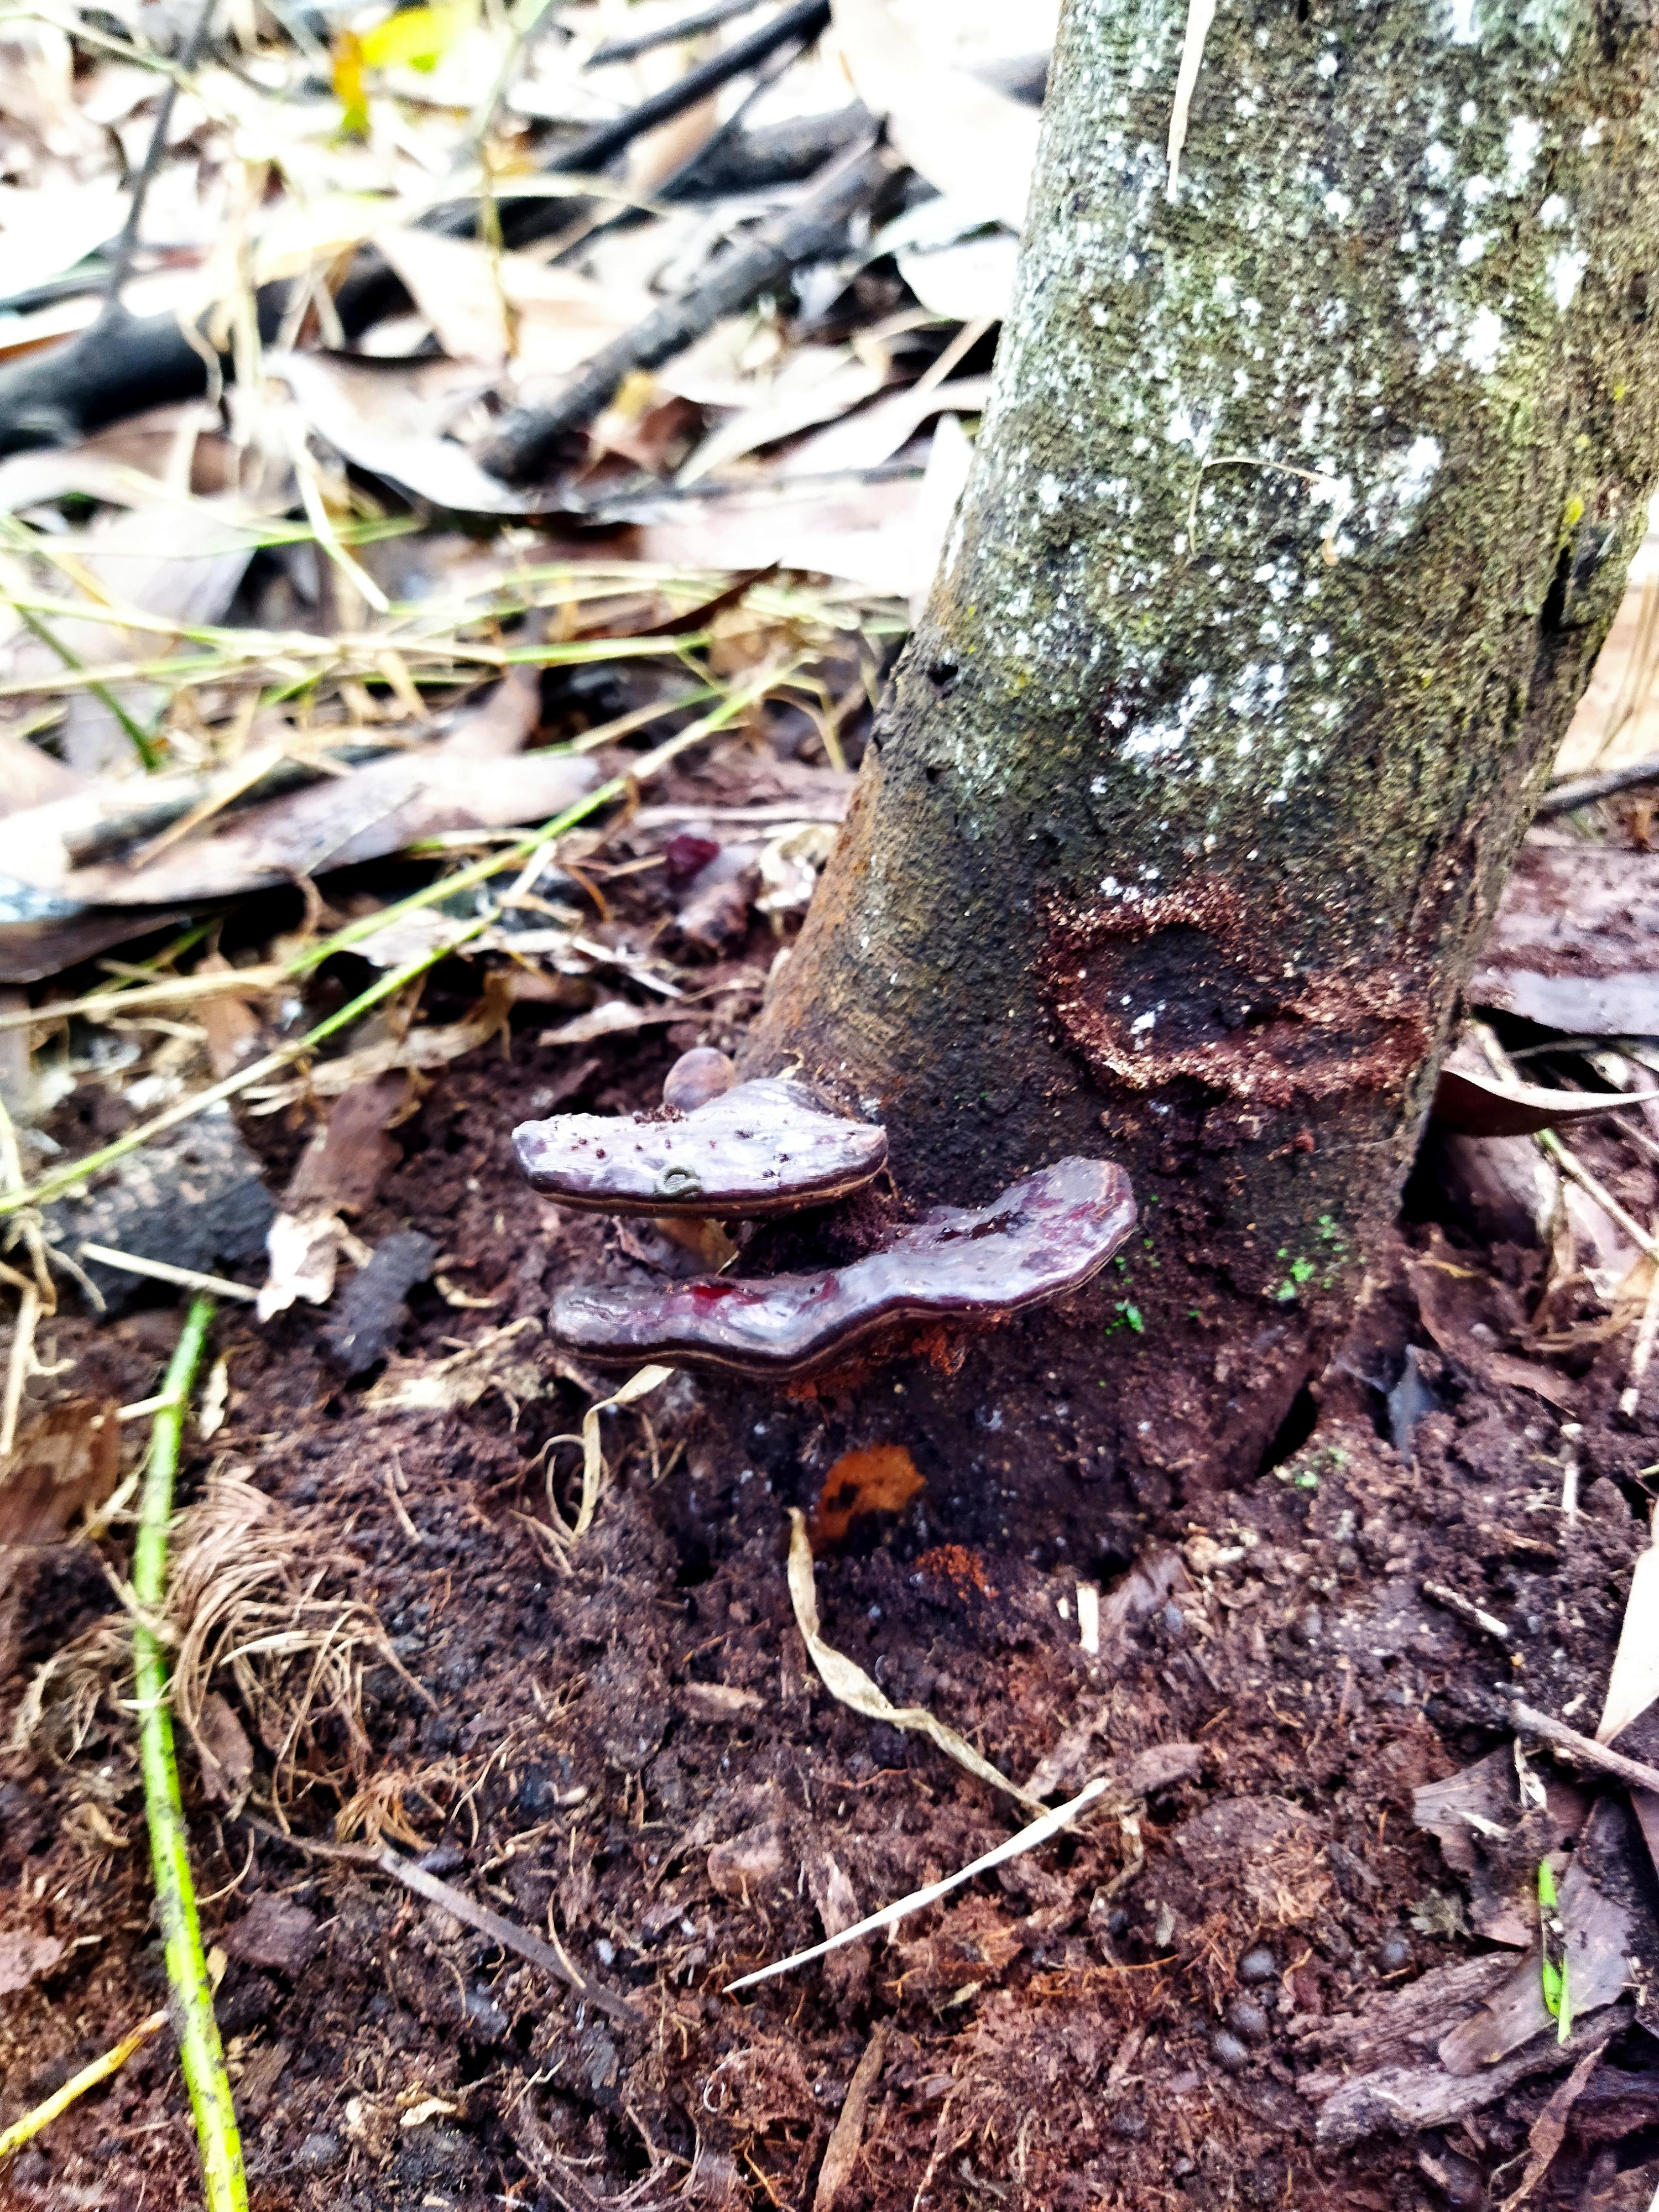Ganoderma - Fruit Body: (521, 1202, 1124, 1388), (532, 1096, 929, 1207)
